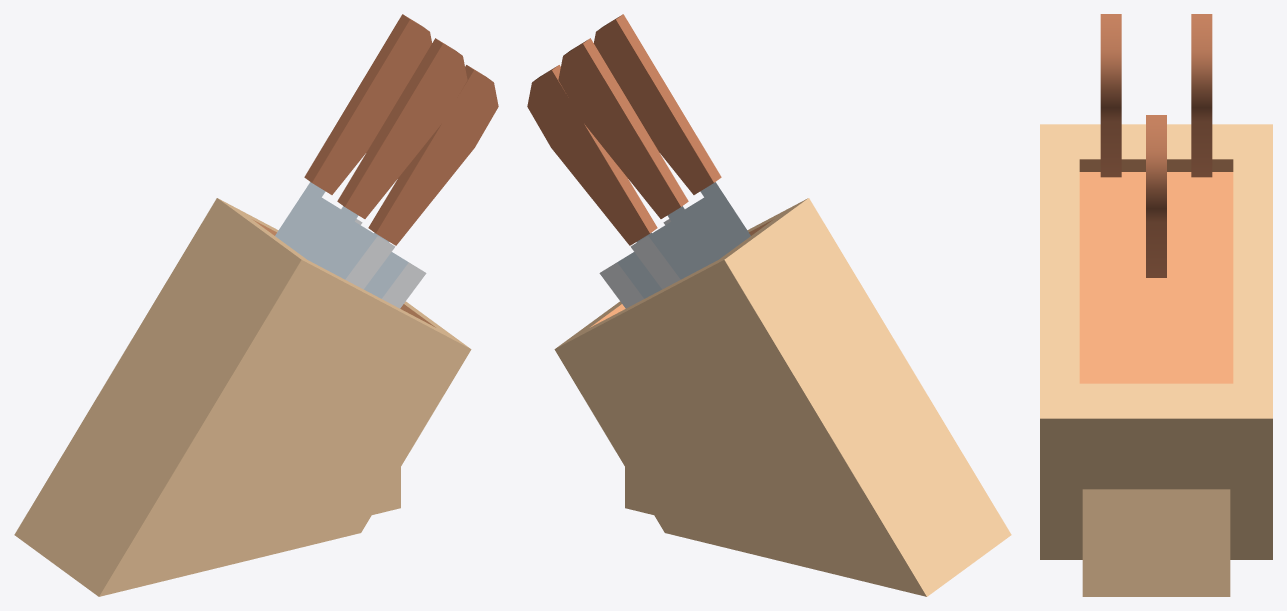
File: Knife Block.glb
The picture shows the model from 3 angles, left to right: view 1: azimuth 30°, elevation 25°; view 2: azimuth 150°, elevation 25°; view 3: azimuth 270°, elevation 25°; orthographic projection. The views are drawn at different scales.
Parts seen in each view (by area): view 1: Knife Block; view 2: Knife Block; view 3: Knife Block.
Part boxes in pixels (bbox=[...]): Knife Block: bbox=[14, 14, 498, 596]; Knife Block: bbox=[527, 14, 1011, 596]; Knife Block: bbox=[1040, 14, 1272, 596].
Size of the model in its own units: 0.6628 by 0.6472 by 0.2218.
